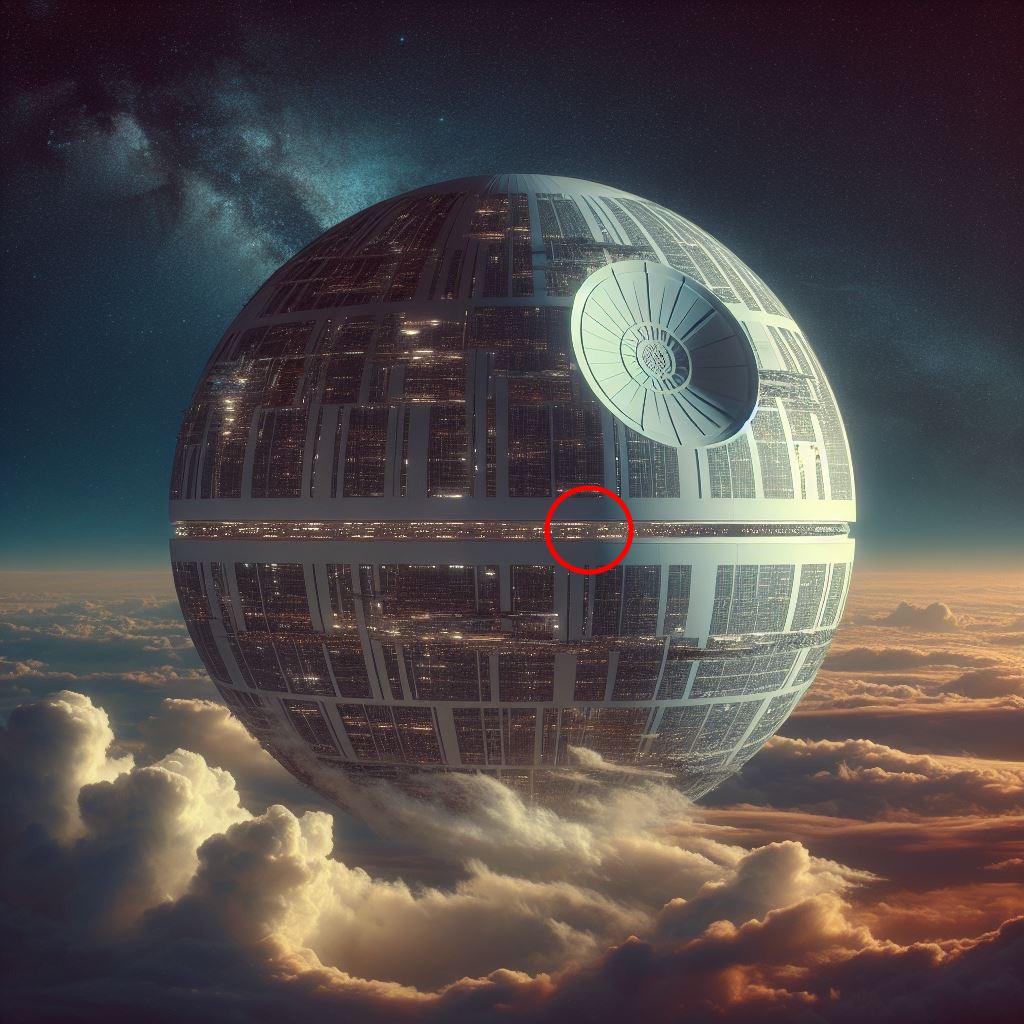Death-star: (168, 175, 859, 839)
